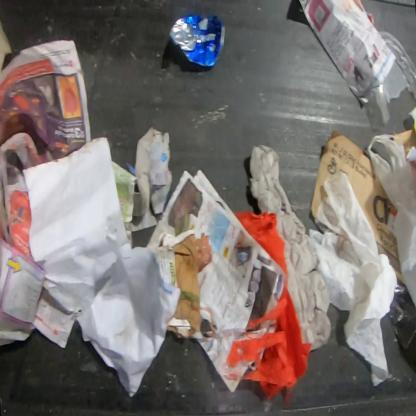cardboard: (248, 142, 333, 354), (310, 129, 404, 284), (162, 225, 216, 340), (124, 125, 174, 233), (0, 17, 13, 72), (390, 128, 415, 156)
metal: (168, 12, 226, 68), (387, 277, 415, 352)
rigid_plastic: (368, 29, 415, 126)
soft_plastic: (307, 171, 398, 387), (366, 134, 416, 308)
